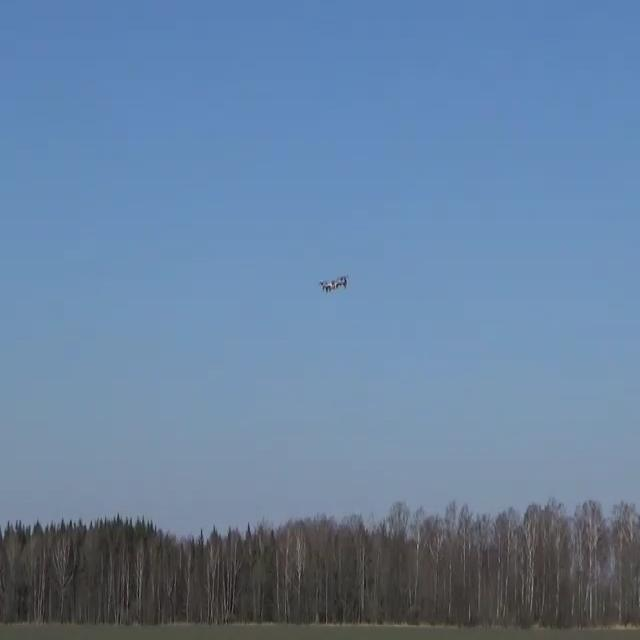Drone: (299, 252, 366, 310)
